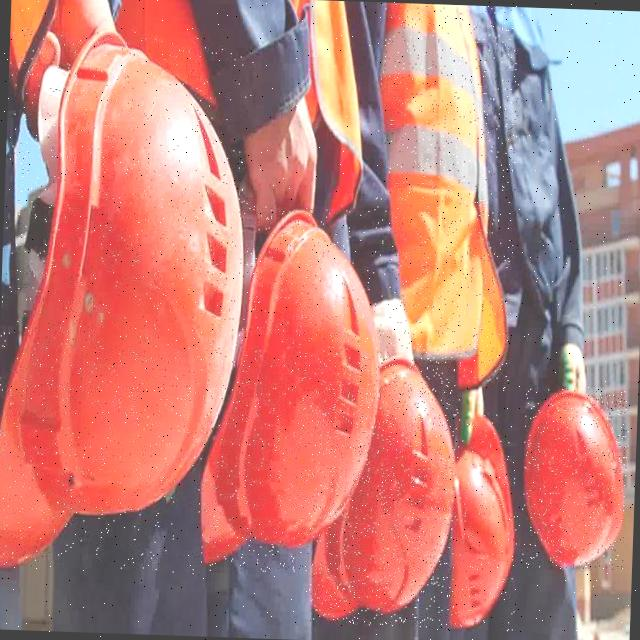helmet: (0, 27, 254, 576), (195, 204, 386, 576), (308, 353, 462, 628), (520, 386, 630, 572), (448, 414, 520, 632)
vest: (368, 2, 521, 393)
